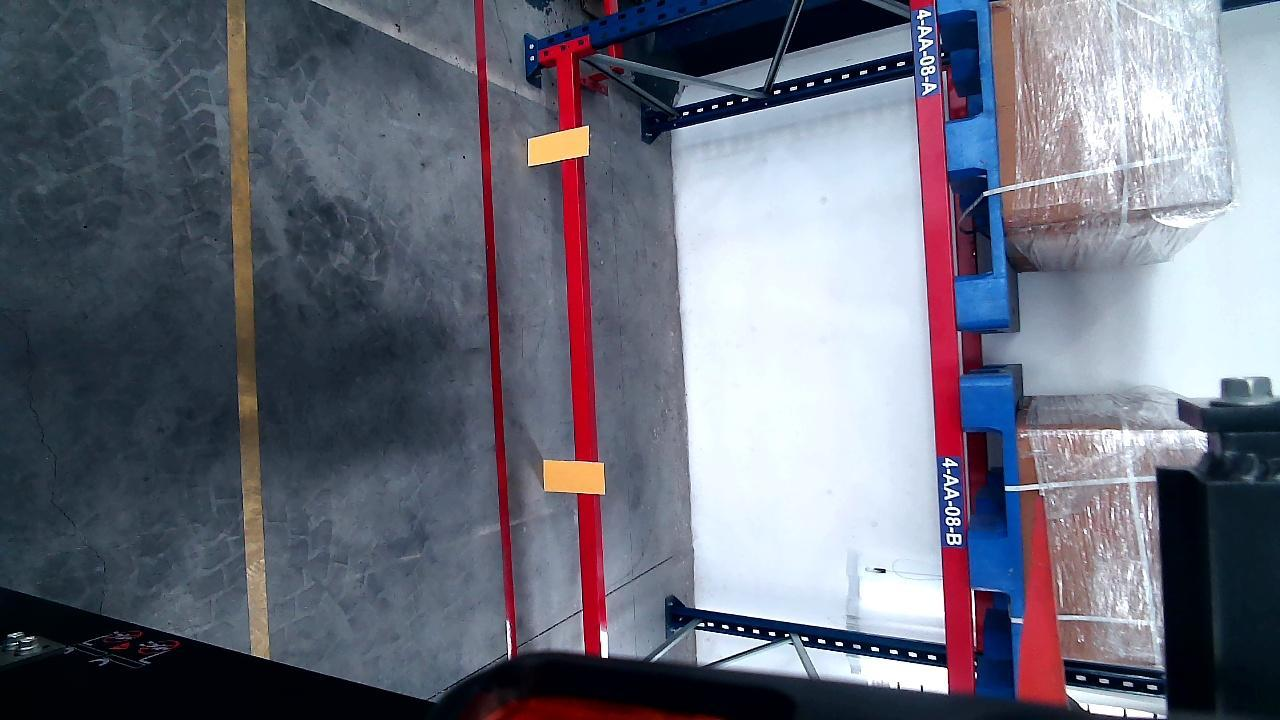red_line: (470, 0, 517, 659)
yellow_line: (228, 0, 267, 670)
